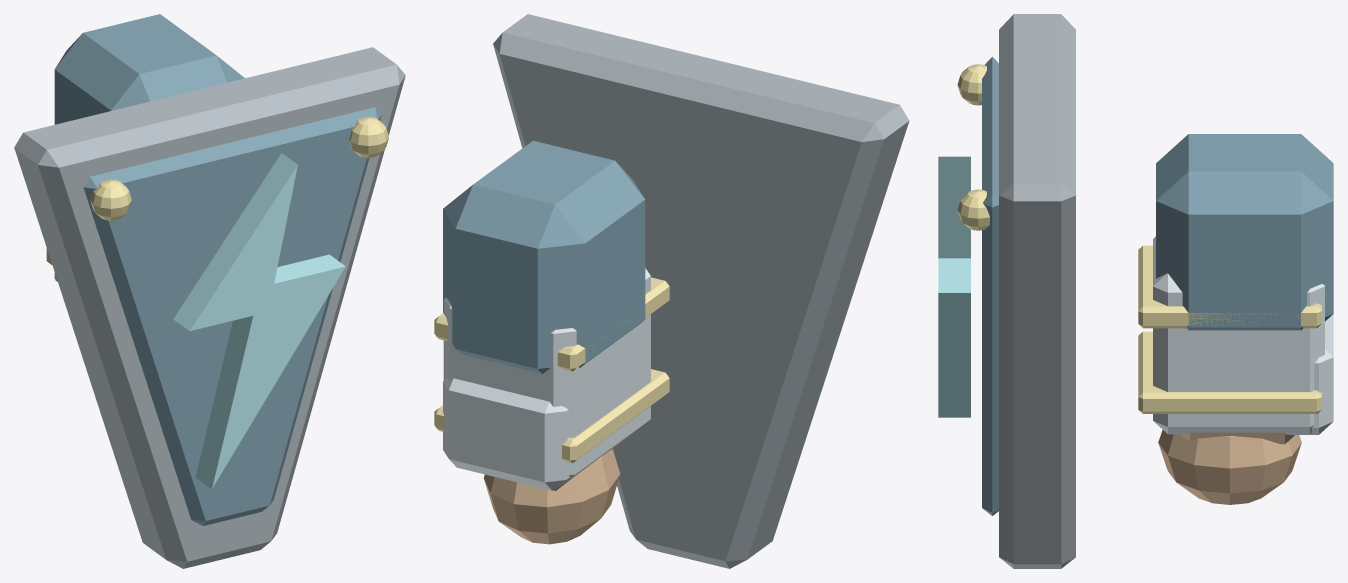
The model's file is Storm_Defender_LeftArm.fbx.
3 views of the same model, side by side, from view 1: azimuth 30°, elevation 25°; view 2: azimuth 150°, elevation 25°; view 3: azimuth 270°, elevation 25° (orthographic). The views are drawn at different scales.
Parts seen in each view (by area): view 1: Storm_Defender_LeftArm; view 2: Storm_Defender_LeftArm; view 3: Storm_Defender_LeftArm.
Part boxes in pixels (x1,y1,x2,y2): Storm_Defender_LeftArm: (14,14,405,568); Storm_Defender_LeftArm: (434,14,909,568); Storm_Defender_LeftArm: (938,14,1333,568).
Bounding box in the file's own units: 71.5 × 84 × 66.75.
